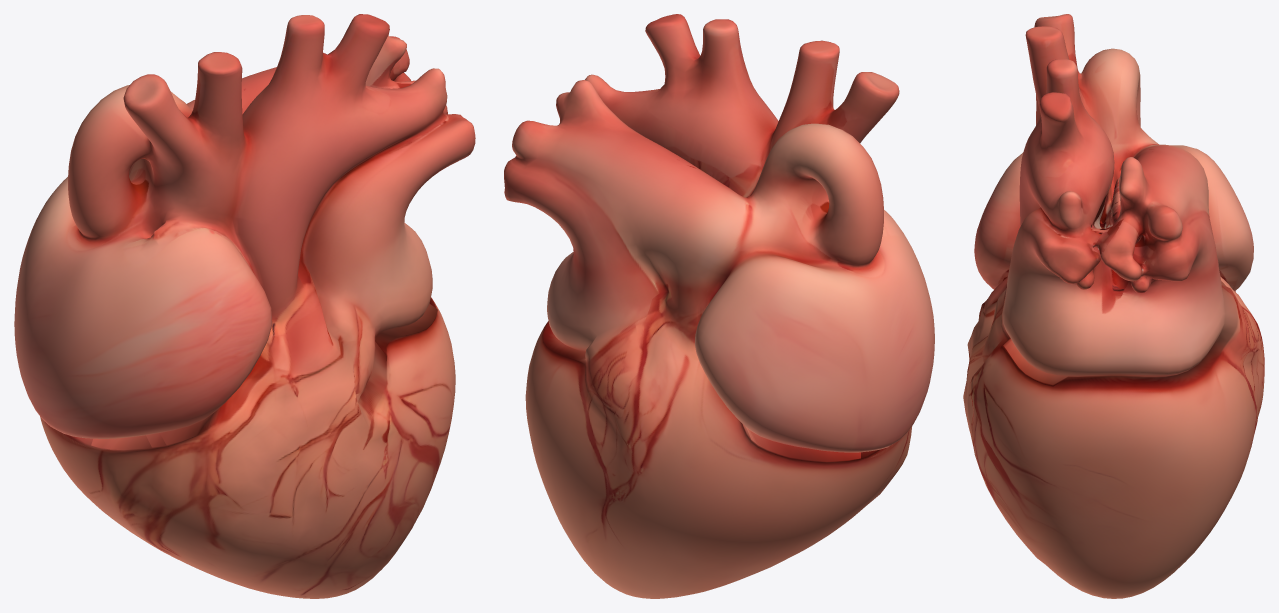
Rendered from updated_abaix.obj.
3 views of the same model, side by side, from view 1: azimuth 30°, elevation 25°; view 2: azimuth 150°, elevation 25°; view 3: azimuth 270°, elevation 25° (orthographic). The views are drawn at different scales.
Parts seen in each view (by area): view 1: remeshed; view 2: remeshed; view 3: remeshed.
Part boxes in pixels (<box>): remeshed: <box>14,14,475,598</box>; remeshed: <box>504,14,934,598</box>; remeshed: <box>963,14,1264,598</box>.
Size of the model in its own units: 1.15 by 1.58 by 0.8465.
Materials: 1 (1 with a texture image).
